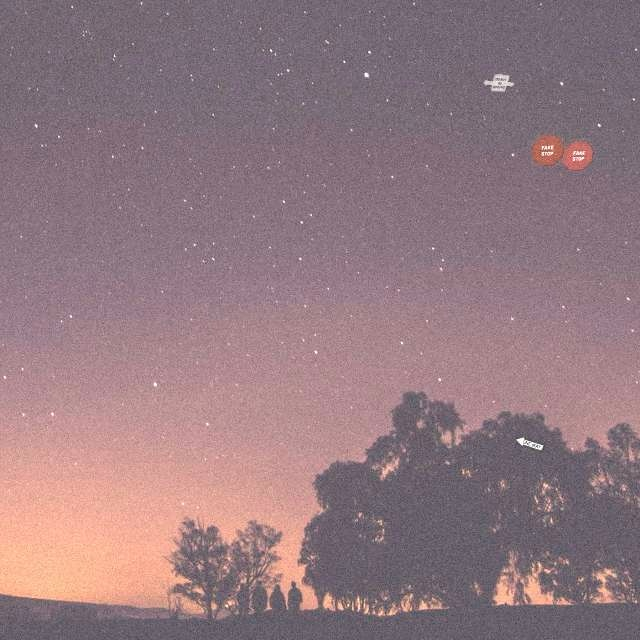DO_NOT_GO_AROUND: (482, 73, 515, 92)
FAKE_STOP: (531, 134, 564, 166), (561, 140, 594, 171)
ONE_WAY_ left: (514, 434, 547, 453)
